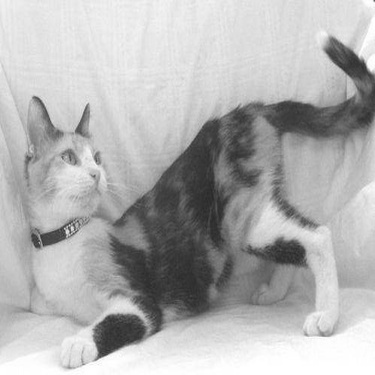cat: (18, 37, 375, 365)
